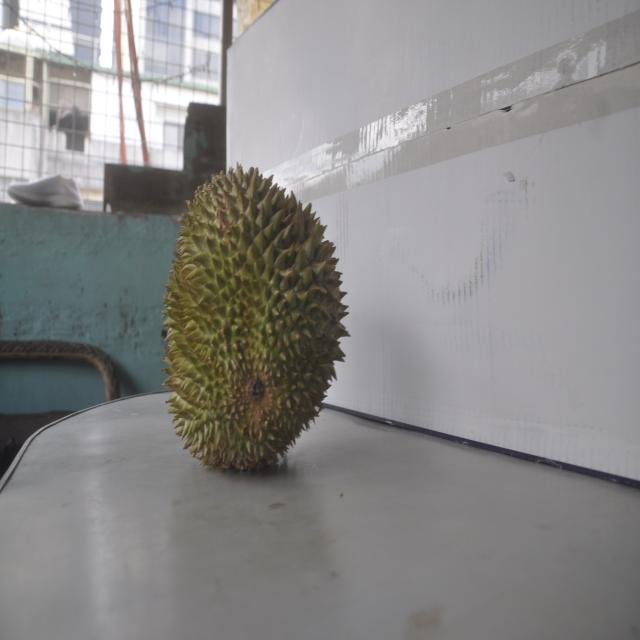mature: (159, 163, 347, 472)
